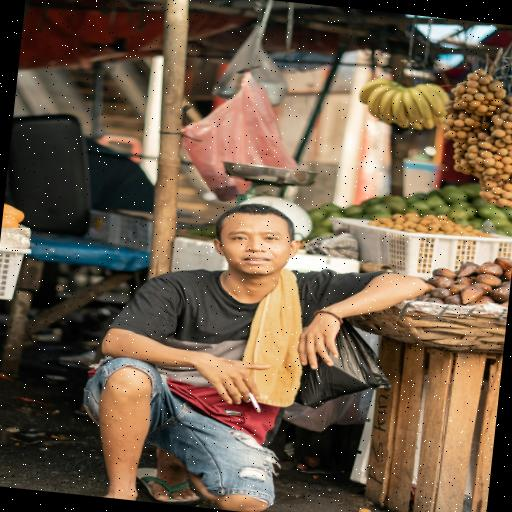terdeteksi pegang rokok: (192, 352, 279, 434)
